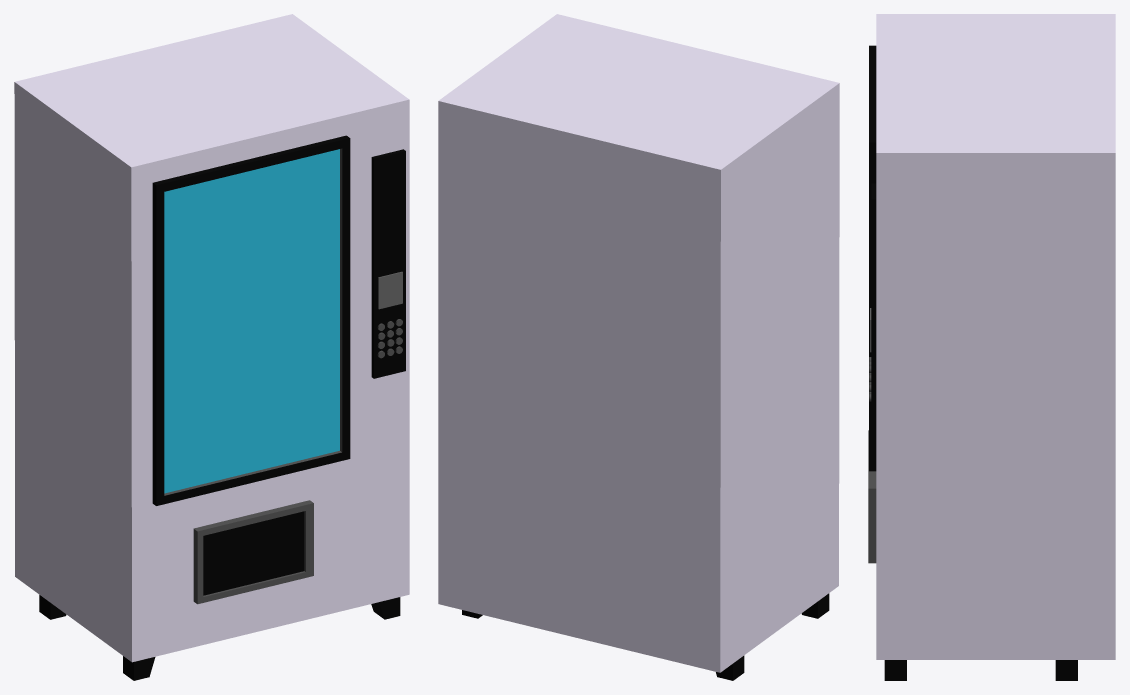
The model's file is vending.fbx.
The picture shows the model from 3 angles, left to right: view 1: azimuth 30°, elevation 25°; view 2: azimuth 150°, elevation 25°; view 3: azimuth 270°, elevation 25°; orthographic projection. The views are drawn at different scales.
Visible parts, largest first — view 1: Plane.006; view 2: Plane.006; view 3: Plane.006.
Boxes of the visible parts, x1,y1,x2,y2 form: Plane.006: (14,14,409,680); Plane.006: (438,14,839,680); Plane.006: (868,14,1115,680).
Bounding box in the file's own units: 976 × 1737 × 735.
